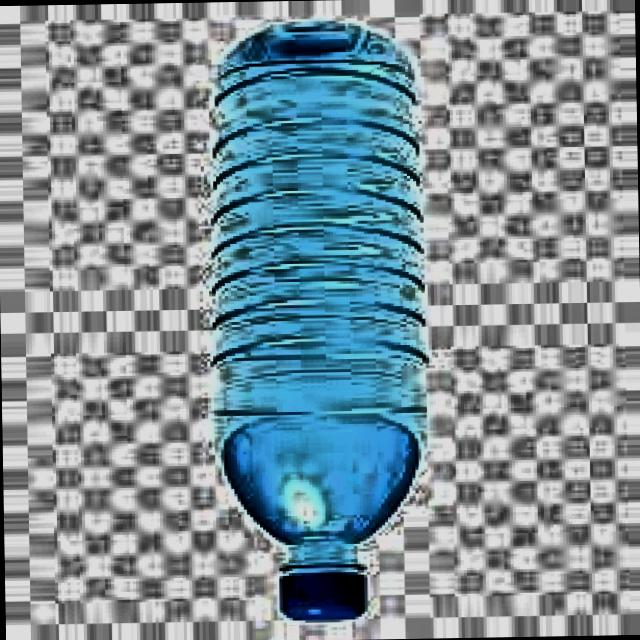plastic bottle: (211, 22, 425, 620)
